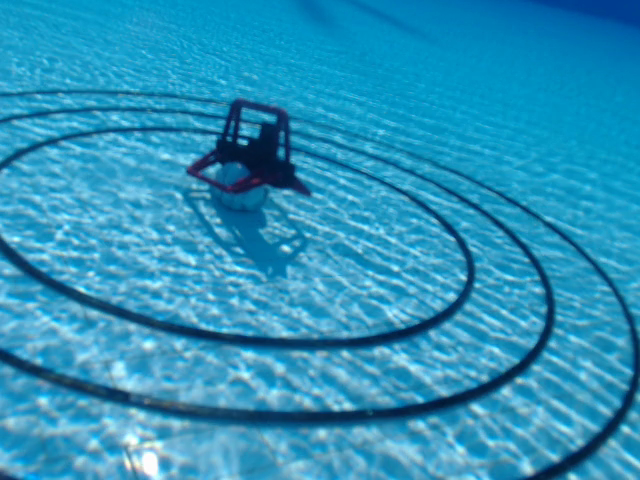submarine: (185, 97, 314, 200)
